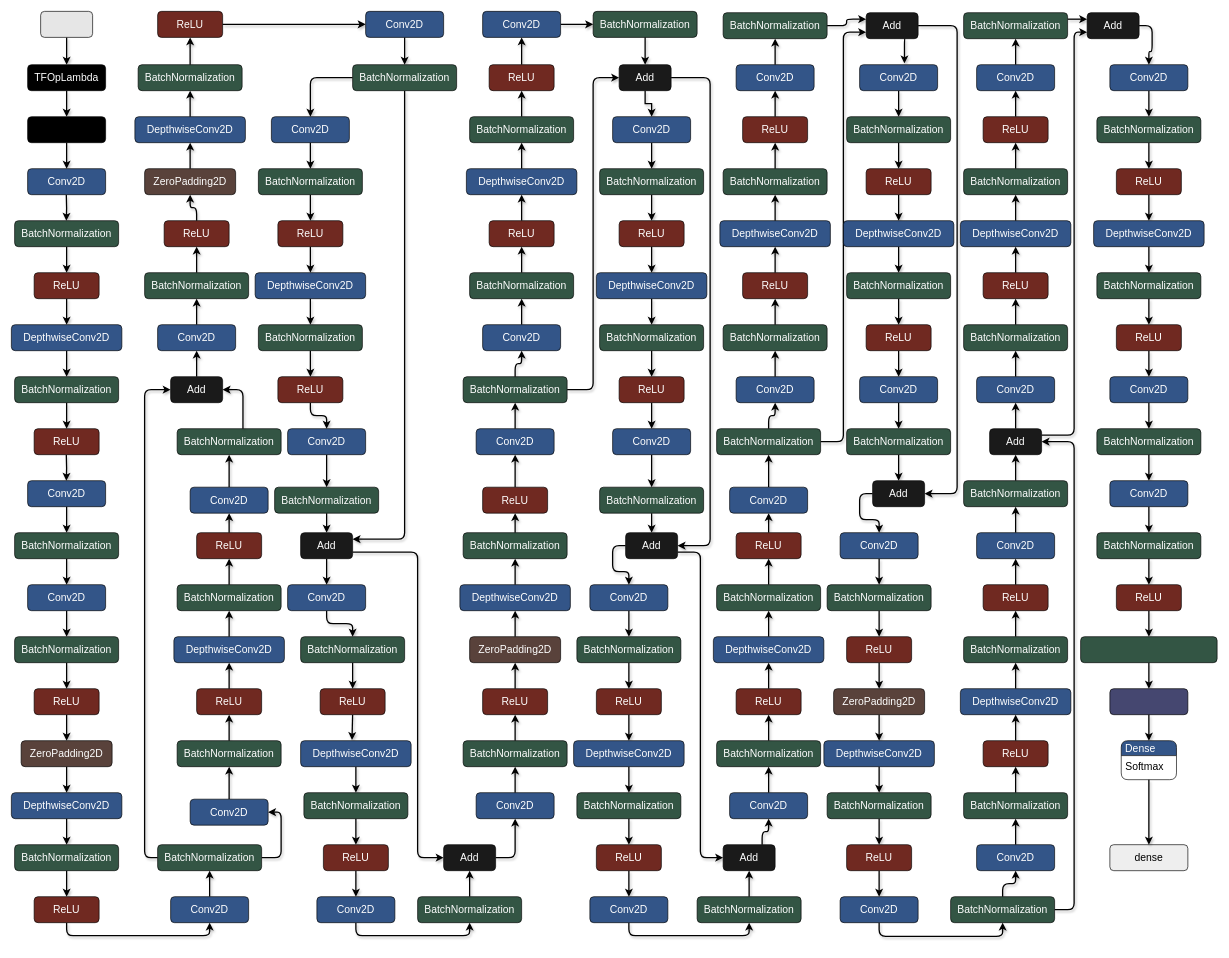
This 1229x958 diagram has some shape labels left out. Each missing label, with the centre of its shape:
"Dropout" goes at point (1148, 701).
"GlobalAveragePooling2D" goes at point (1148, 649).
"input" goes at point (66, 24).
"TFOpKambda" goes at point (66, 129).
